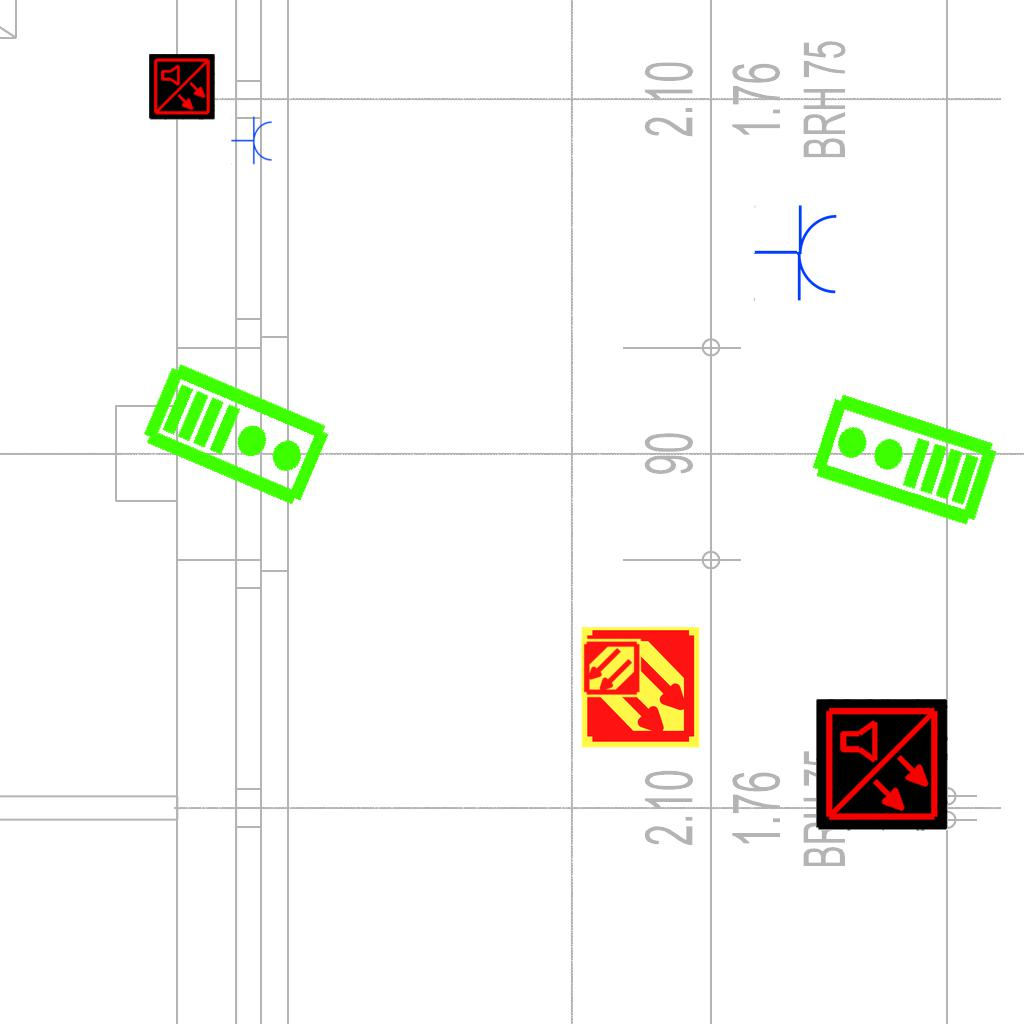ASR_Ansaugrauchmelder: (578, 625, 703, 750), (580, 637, 642, 699)
Gegensprechanlage_mit_Video: (137, 354, 338, 512), (805, 388, 1002, 534)
OKW_Multisensormelder_(Kombination_optischer_Rauch-Kahlenmonoxid_Waerme-Melder): (816, 699, 948, 831), (149, 54, 215, 120)
Schukosteckdose_einfach: (752, 202, 842, 305), (231, 116, 274, 166)
